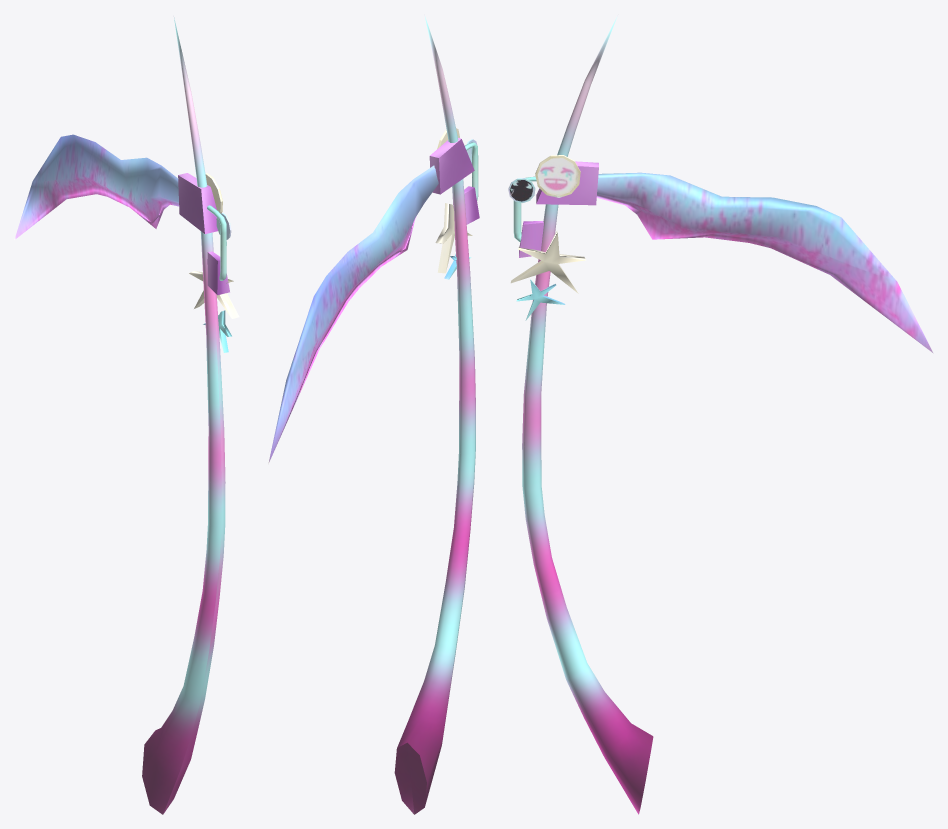
File: pickaxe.glb
3 views of the same model, side by side, from view 1: azimuth 30°, elevation 25°; view 2: azimuth 150°, elevation 25°; view 3: azimuth 270°, elevation 25° (orthographic).
Visible parts, largest first — view 1: pasted__pasted__nurbsToPoly2; view 2: pasted__pasted__nurbsToPoly2; view 3: pasted__pasted__nurbsToPoly2.
Boxes of the visible parts, x1=… form: pasted__pasted__nurbsToPoly2: x1=14, y1=16, x2=239, y2=814; pasted__pasted__nurbsToPoly2: x1=268, y1=15, x2=479, y2=814; pasted__pasted__nurbsToPoly2: x1=508, y1=15, x2=933, y2=814.
Size of the model in its own units: 0.1089 by 2.34 by 1.13.
1 material, 1 textured.
